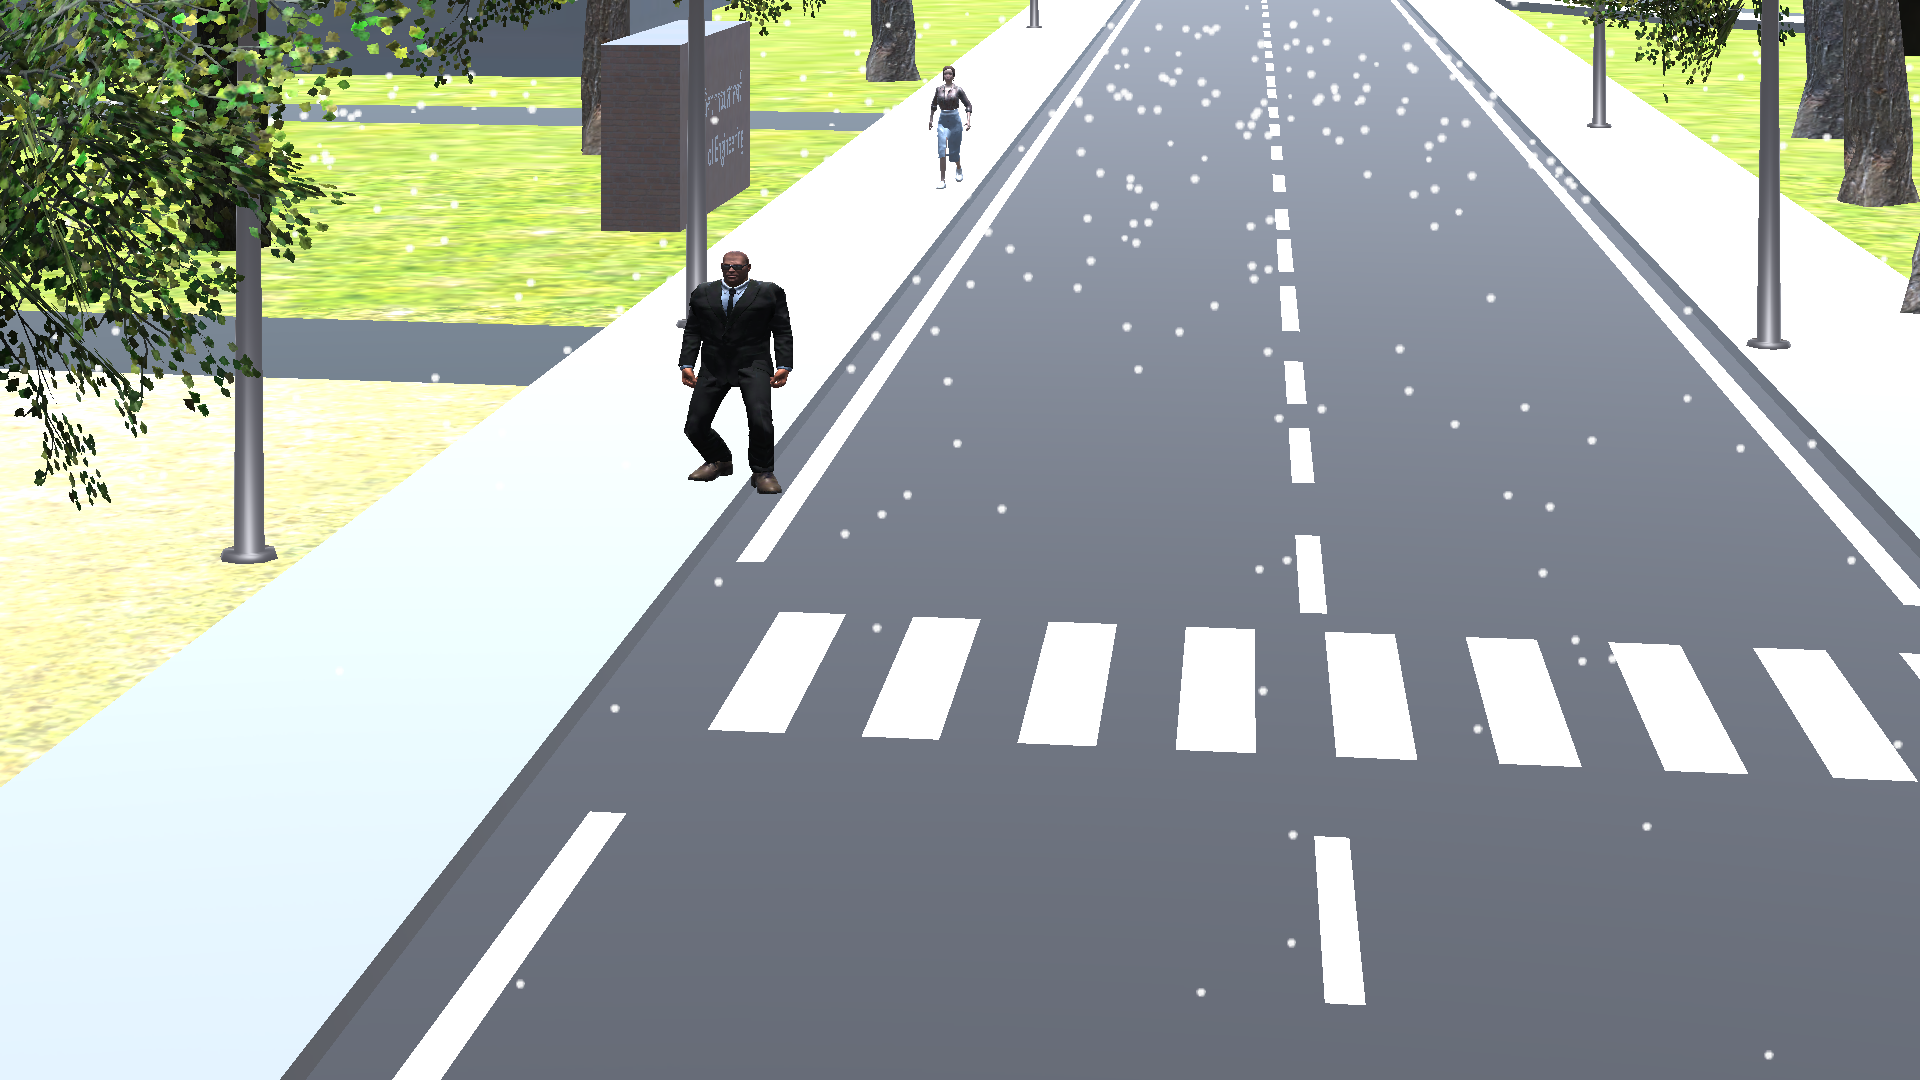pedestrian: (657, 248, 812, 513), (916, 55, 988, 201)
